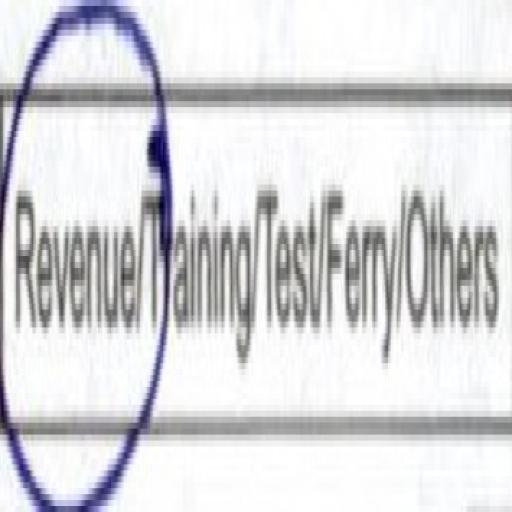check: (0, 6, 153, 512)
